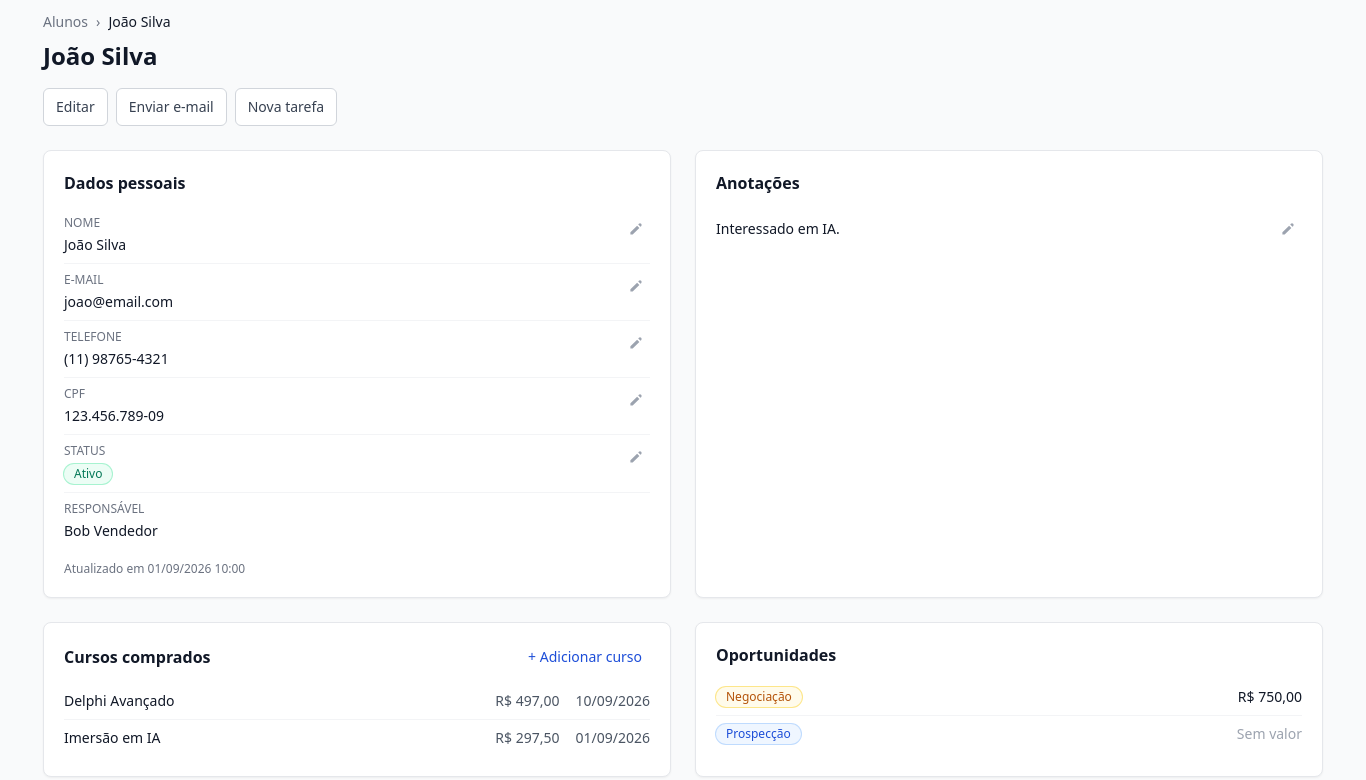
página de detalhe do aluno › edição inline › salva o status escolhido
Expected: the heading "João Silva" is shown, [43,39,157,72]
Click the button named "Editar status": (636, 457) [622,443,650,471]
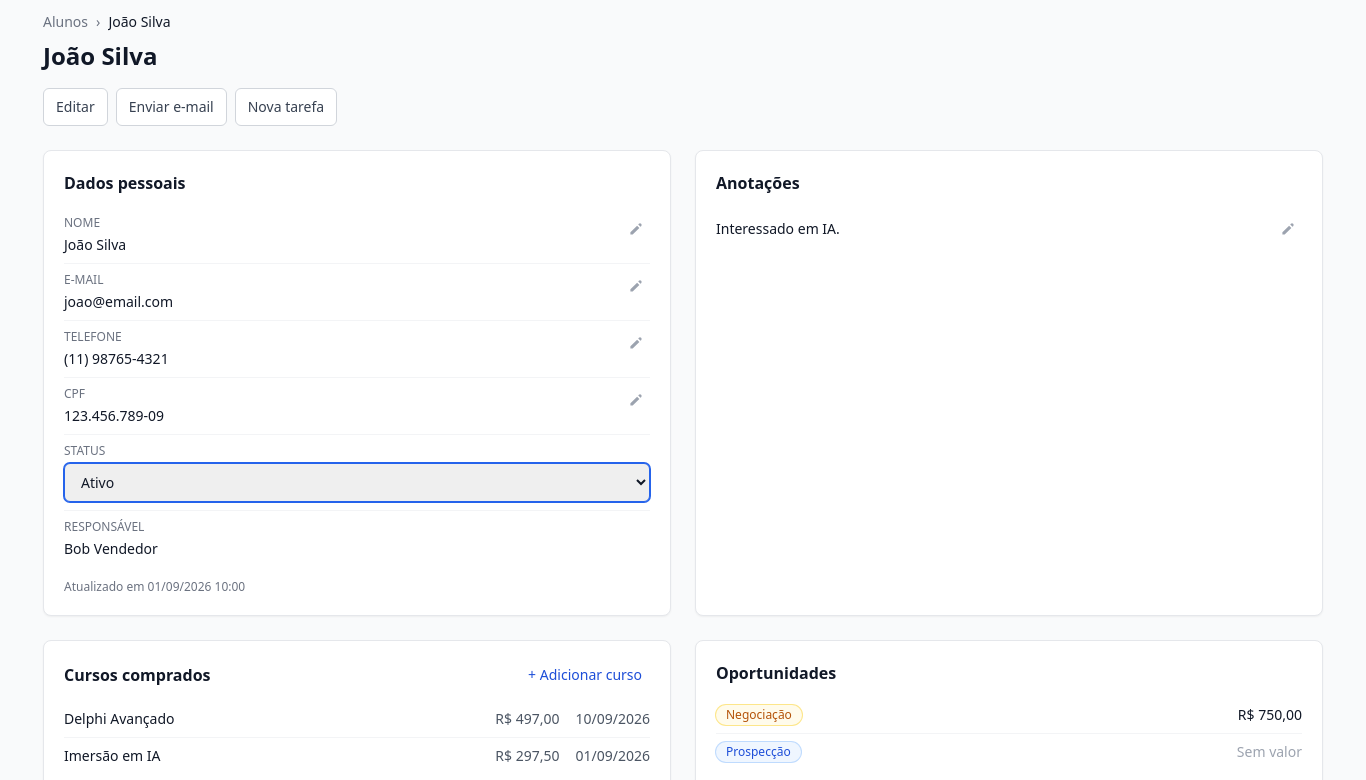
Select "Pausado" in the dropdown labelled "Status": (357, 482) [64,463,650,502]
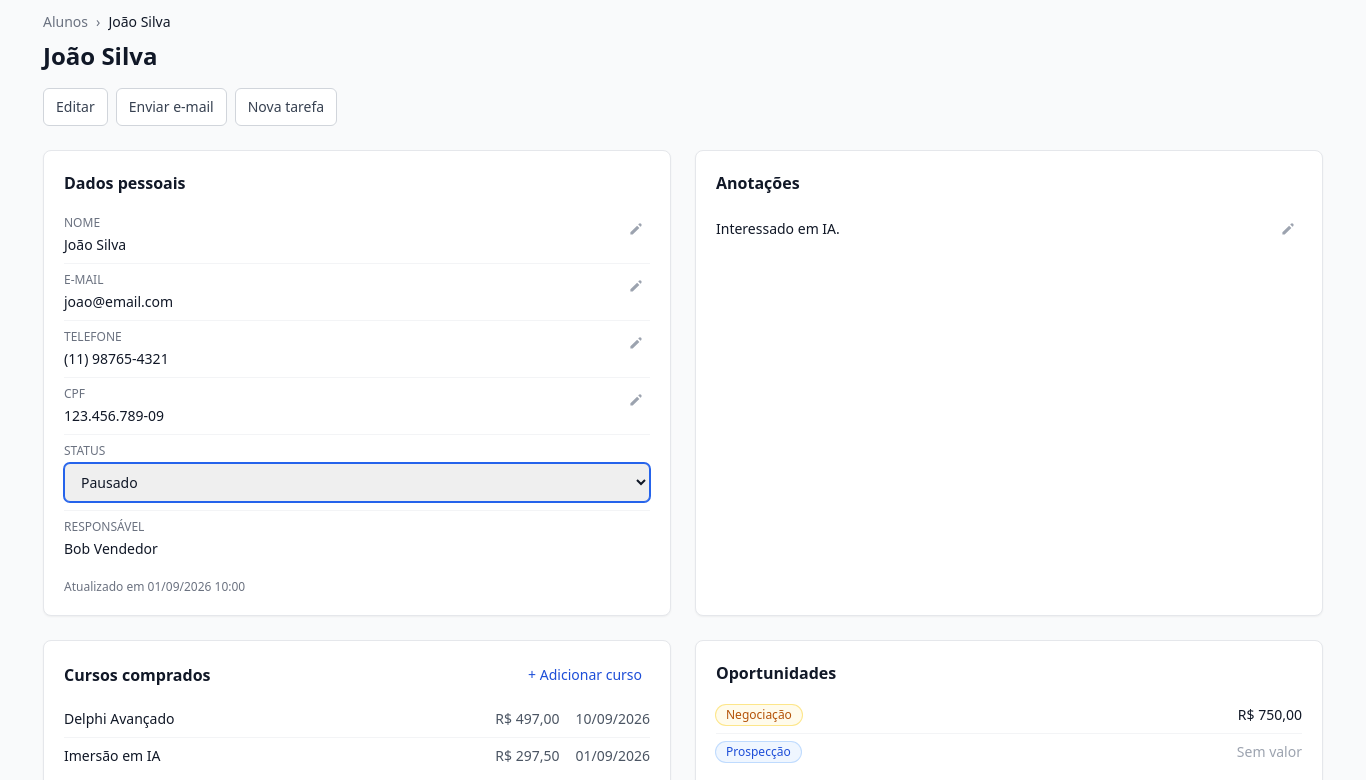
Leave the dropdown labelled "Status", box [64,463,650,502]
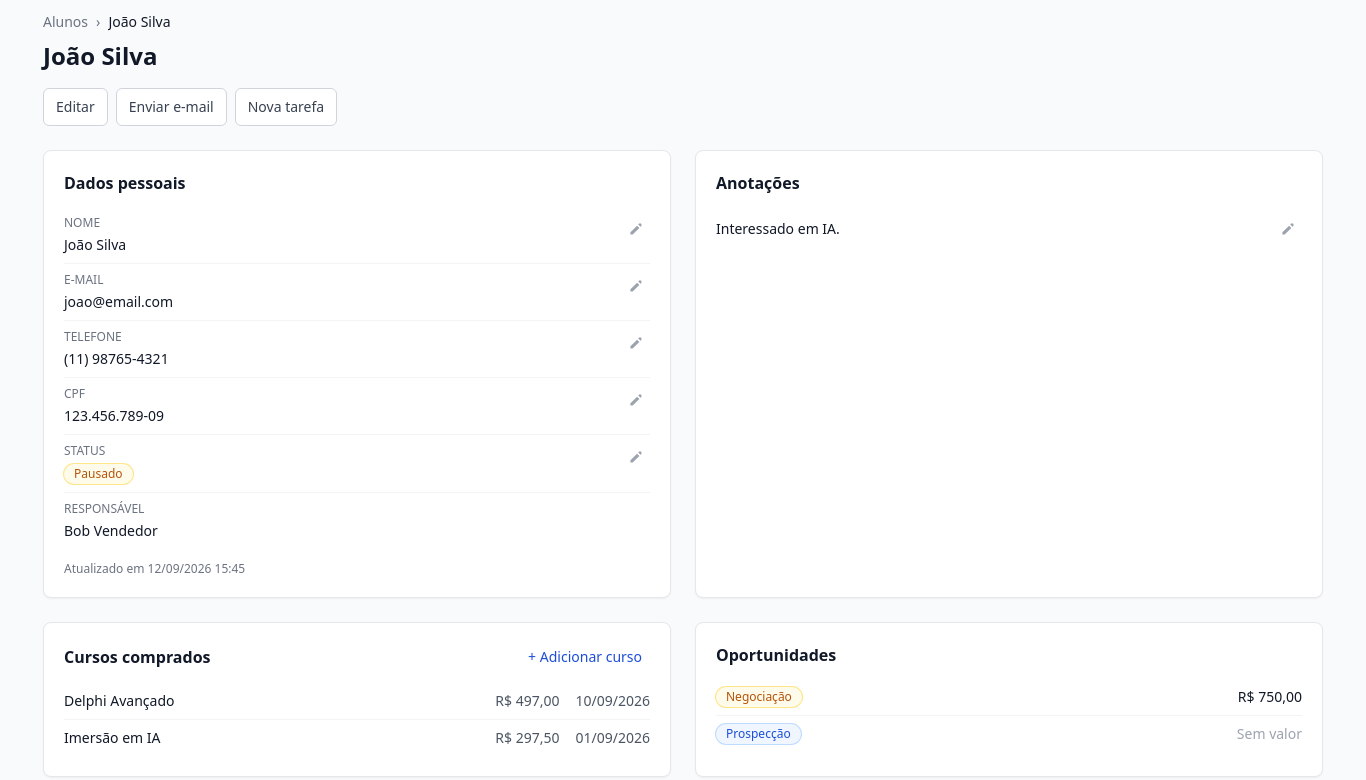
Now the text "Pausado" is shown, box [64,464,132,484]
